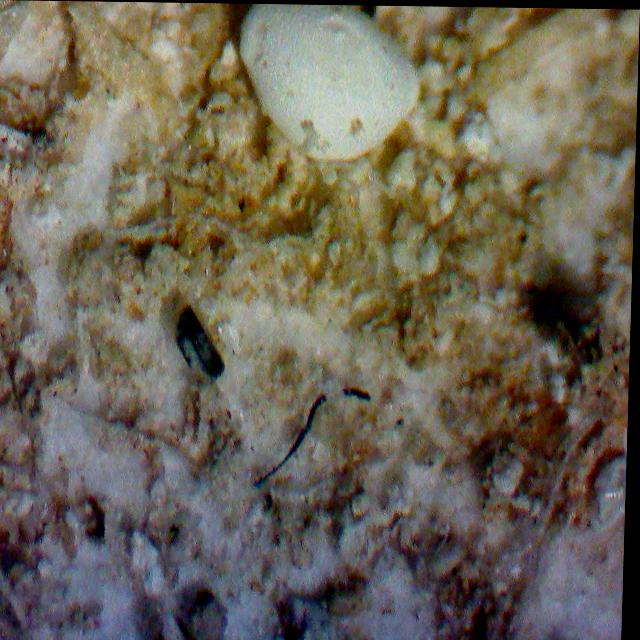microplastic: (253, 391, 329, 489), (346, 387, 373, 402)
